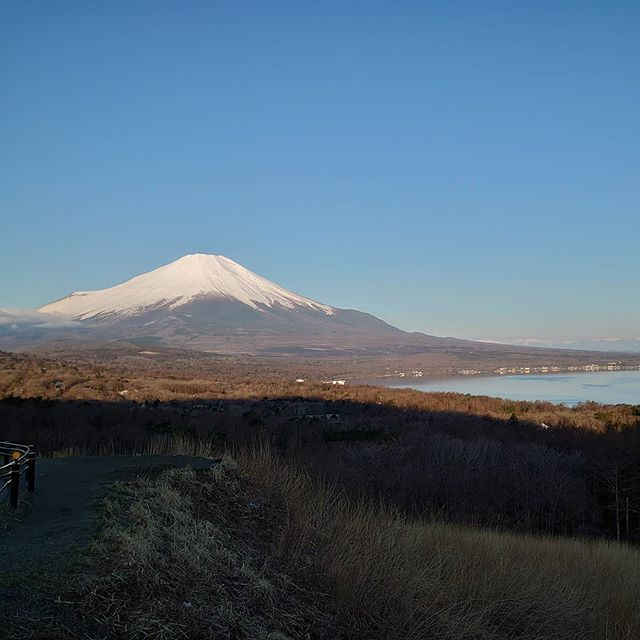grass: (176, 527, 640, 640)
mountain: (28, 226, 393, 349)
sea: (369, 360, 640, 407)
sky: (1, 1, 640, 323)
vegetation: (33, 353, 640, 487)
